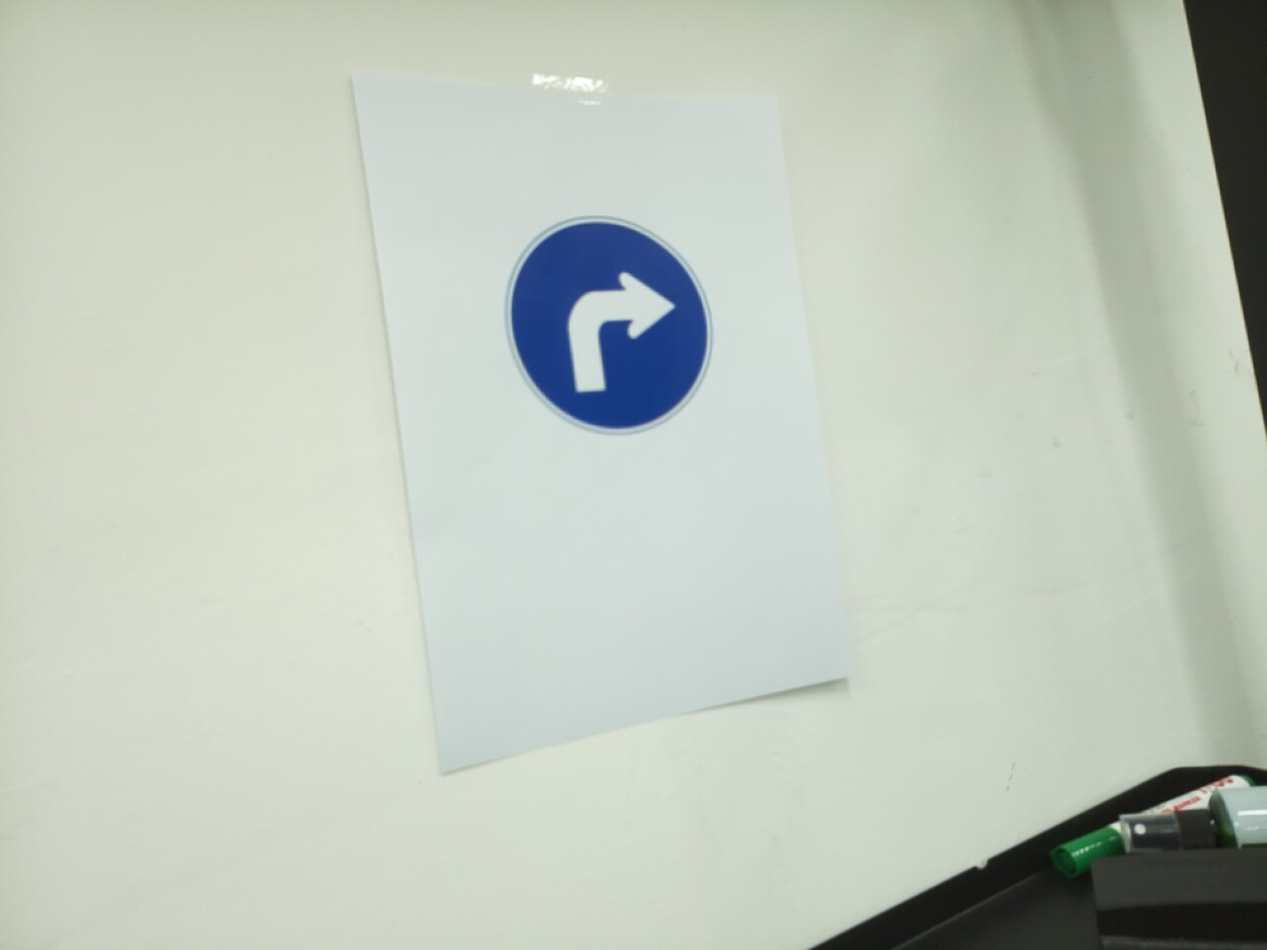right_turn: (503, 214, 716, 436)
